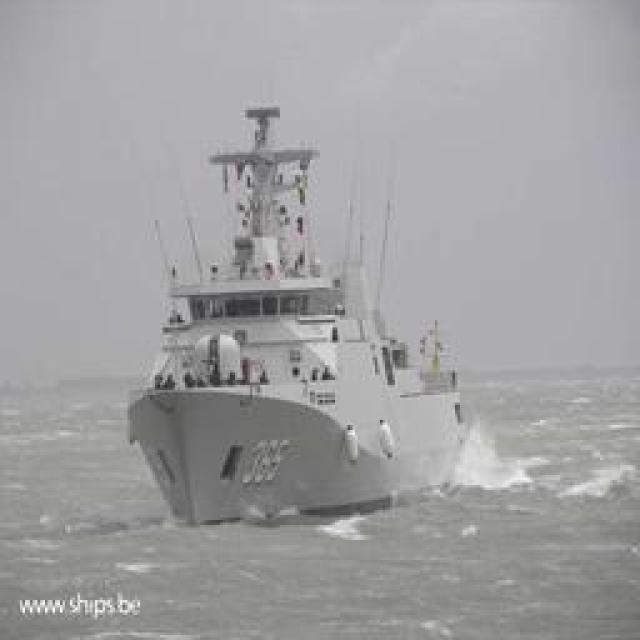Ship: (117, 98, 482, 542)
